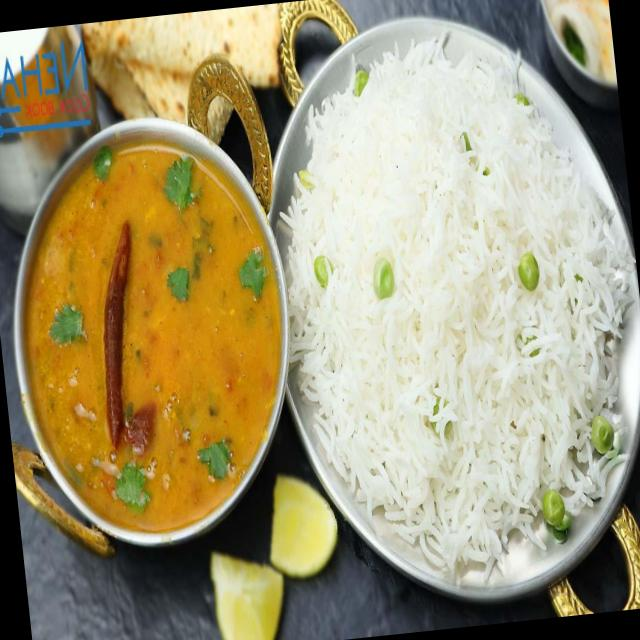dal: (26, 142, 280, 531)
rice: (284, 47, 631, 572)
